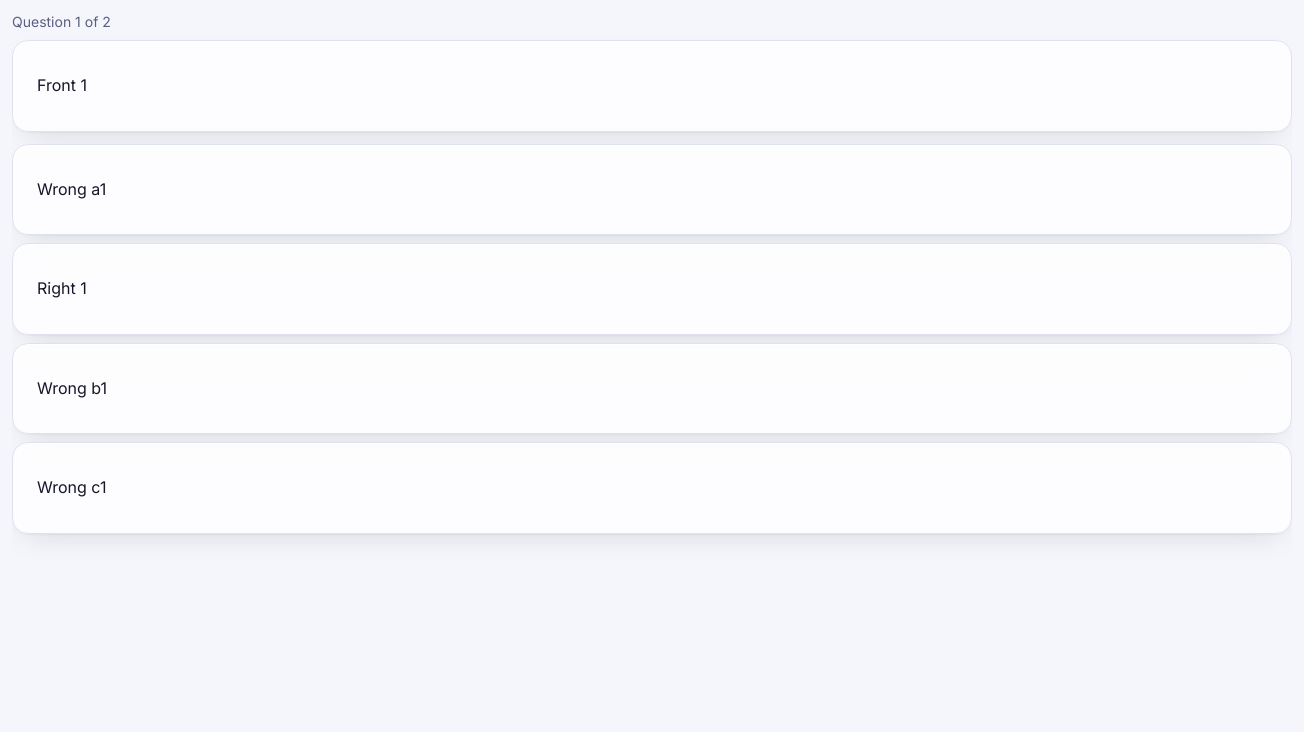
it: SpeedGame › says Correct for the right option and locks the choices
Click the button "Right 1" at (62, 288), box [12,243,1292,335]
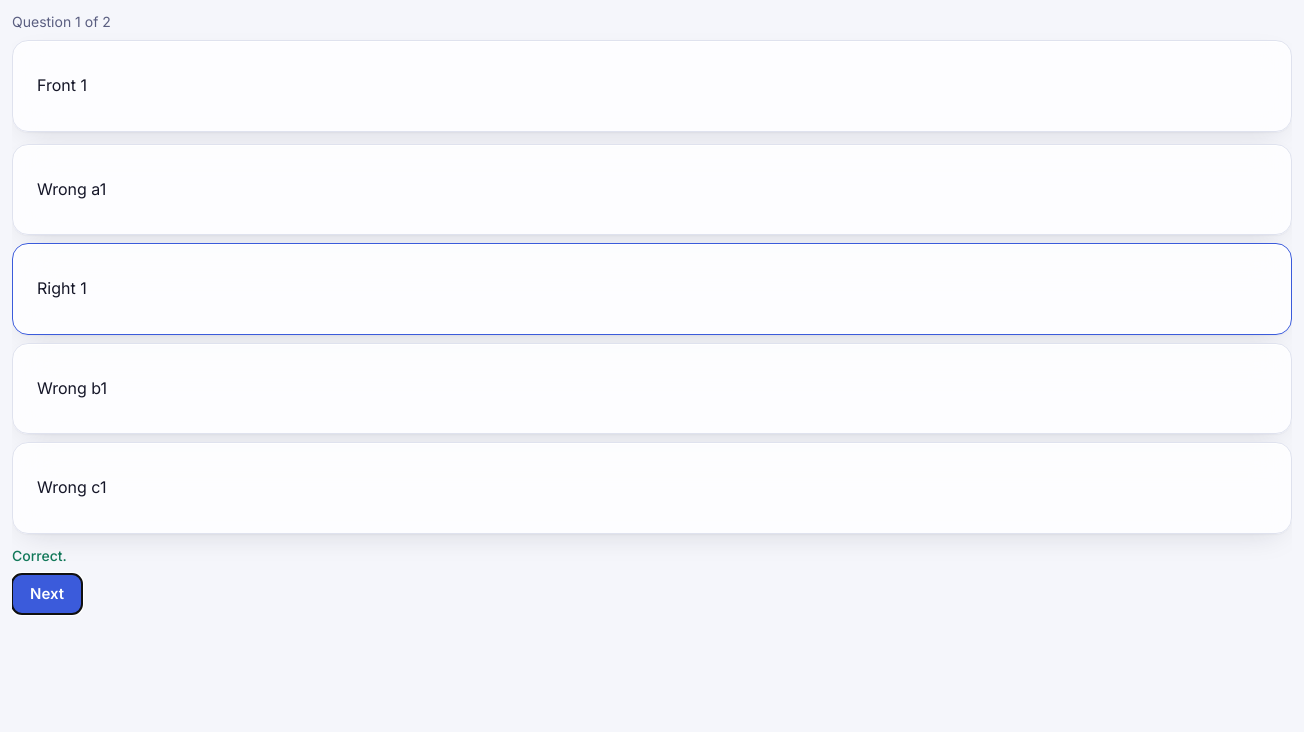
Check: the button "Wrong a1" is disabled, box [12,144,1292,235]
Check: the text "Correct." is shown, box [12,547,67,564]
